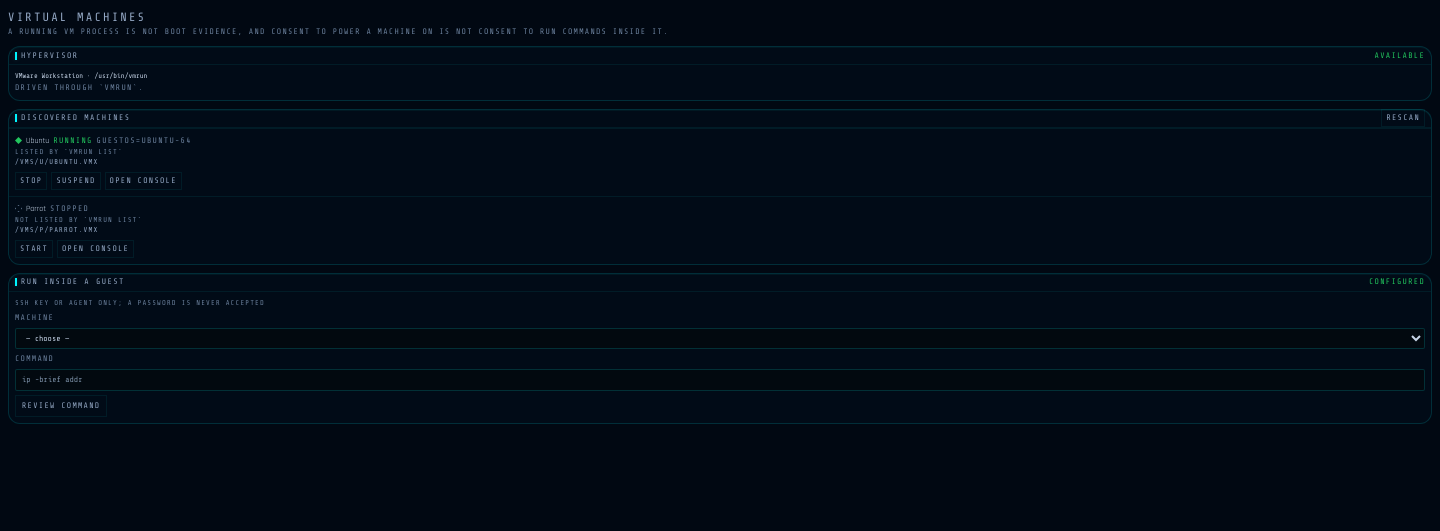
Test: VirtualMachinesView › previews before acting, and the preview names the machine
Check: the list named "Discovered machines" is shown, box [9, 128, 1431, 264]
Click the button "START".
click(34, 248)  # box [15, 240, 53, 258]
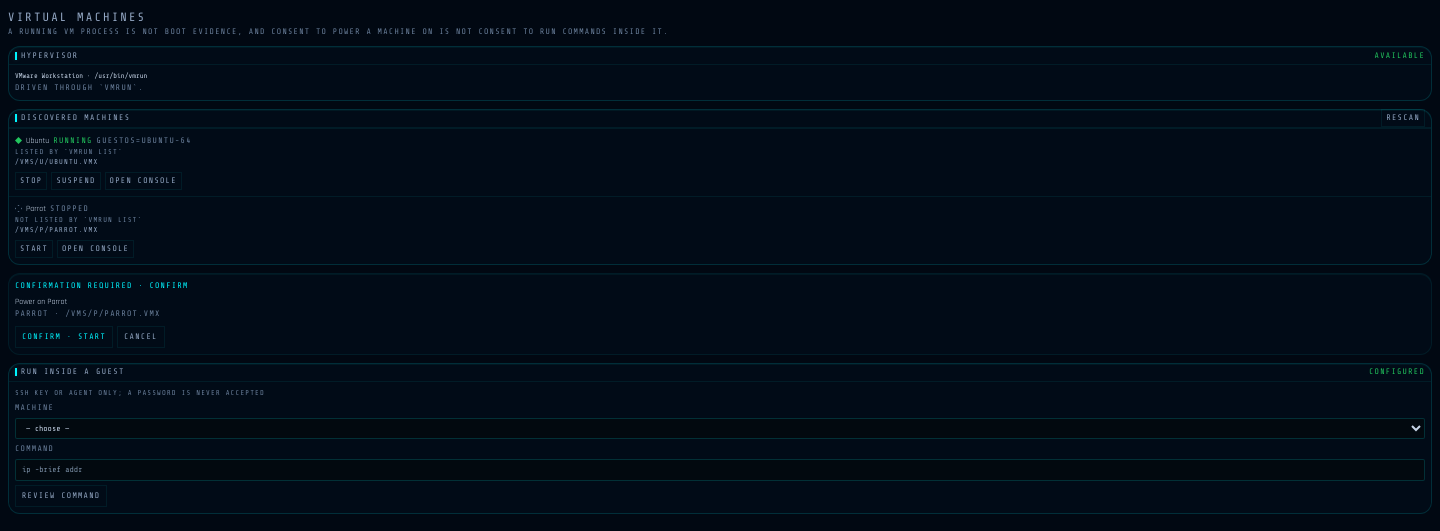
Check: the text "CONFIRMATION REQUIRED · CONFIRM" is shown, box [15, 280, 189, 290]
Check: the text "Power on Parrot" is shown, box [15, 296, 67, 306]
